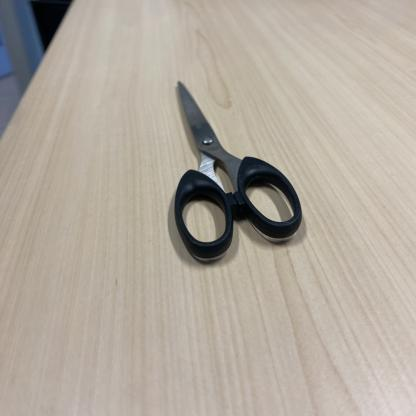scissors: (166, 81, 304, 259)
